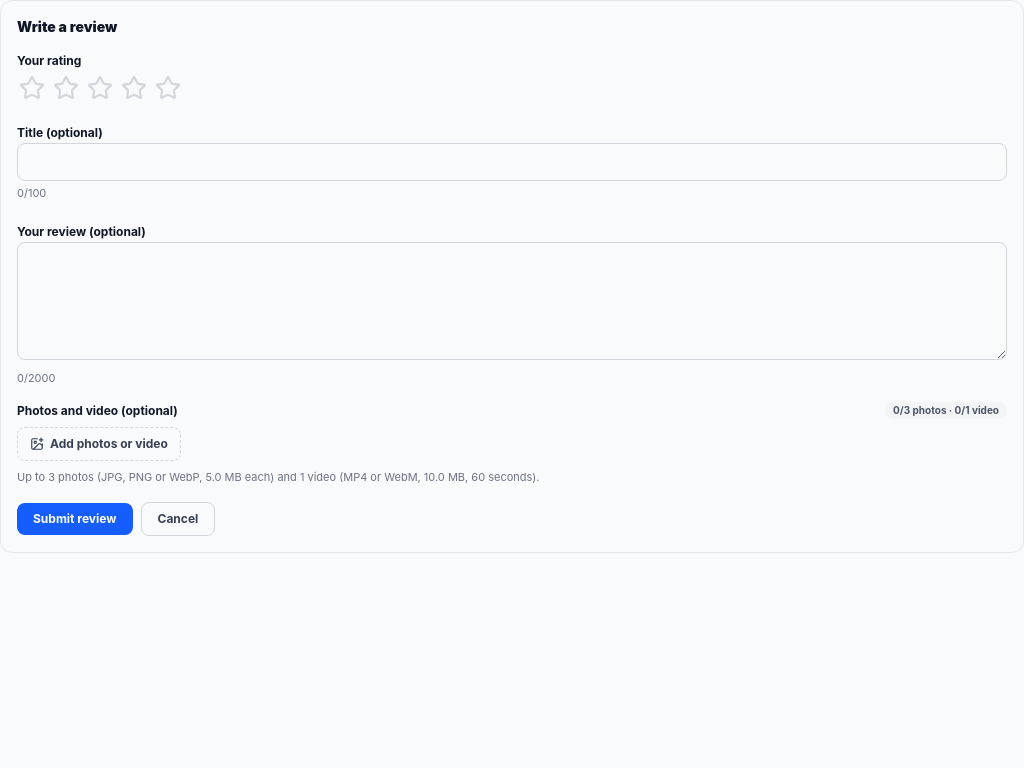
Test: ReviewForm: a new review › shows a loading state while sending
Click the radio button named "3 stars".
click(100, 88)  # box [85,73,115,103]
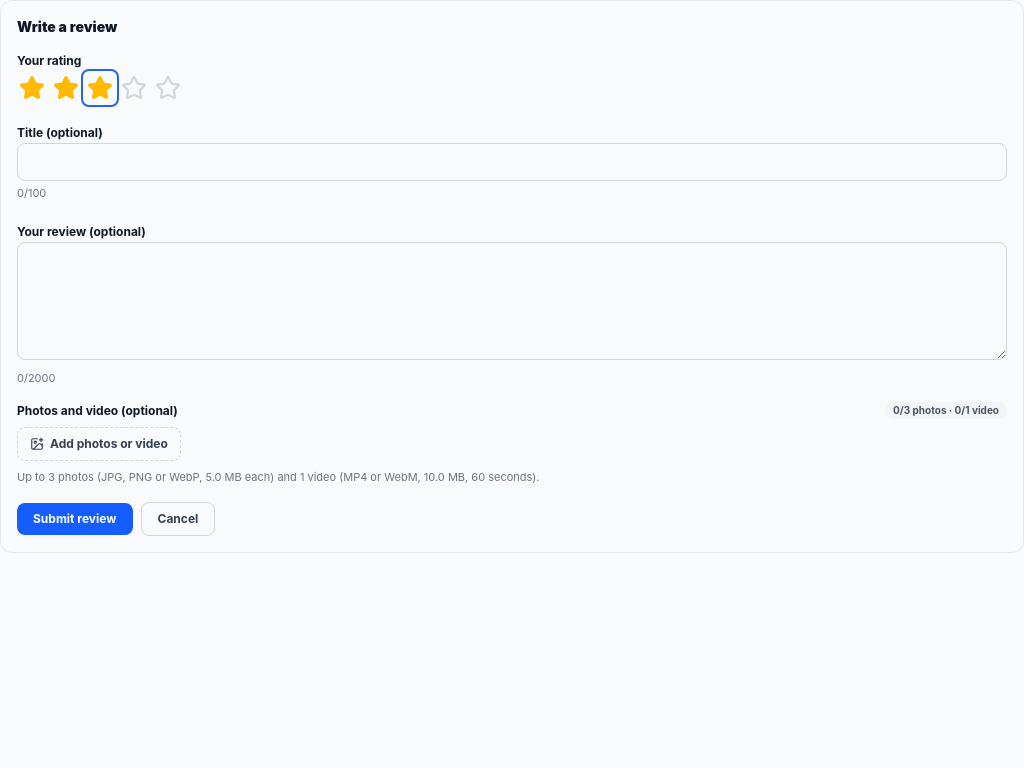
Click the button "Submit review".
click(75, 519)  # box [17,503,132,535]
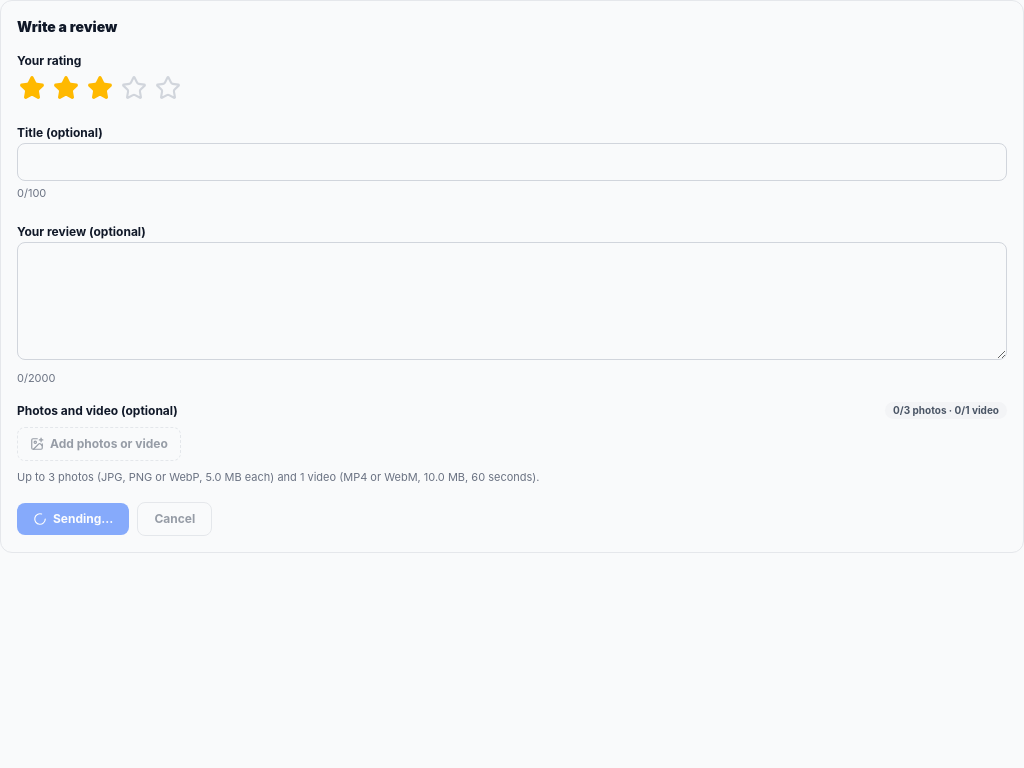
Expected: the button "Sending…" is disabled, [17,503,129,535]
